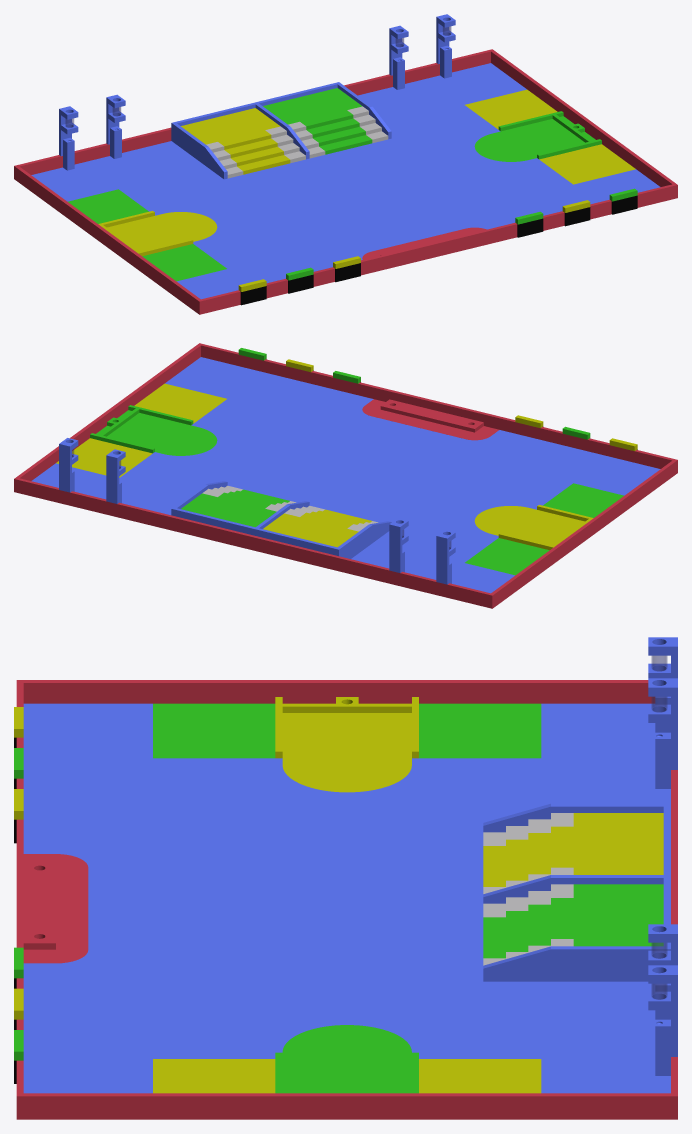
The model's file is plateau_mieux_ancien.dae.
The picture shows the model from 3 angles, top to bottom: view 1: azimuth 30°, elevation 25°; view 2: azimuth 150°, elevation 25°; view 3: azimuth 270°, elevation 25°; orthographic projection. The views are drawn at different scales.
Visible parts, largest first — view 1: plateau_003; view 2: plateau_003; view 3: plateau_003.
Part boxes in pixels (<box>): plateau_003: <box>14,14,677,314</box>; plateau_003: <box>14,343,677,608</box>; plateau_003: <box>14,637,677,1119</box>.
Bounding box in the file's own units: 3.04 × 2.05 × 0.36.
